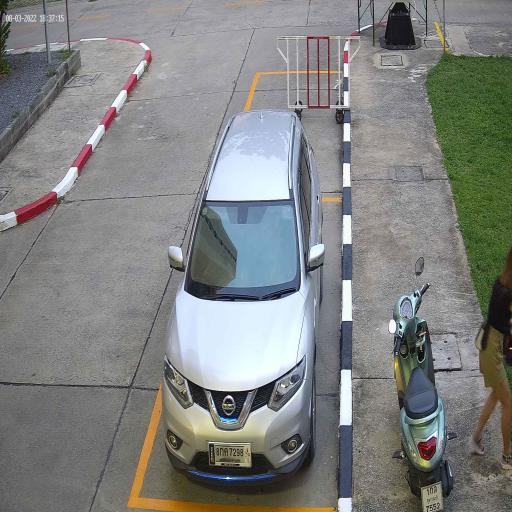car: (163, 110, 321, 488)
motorcycle: (387, 279, 453, 512)
